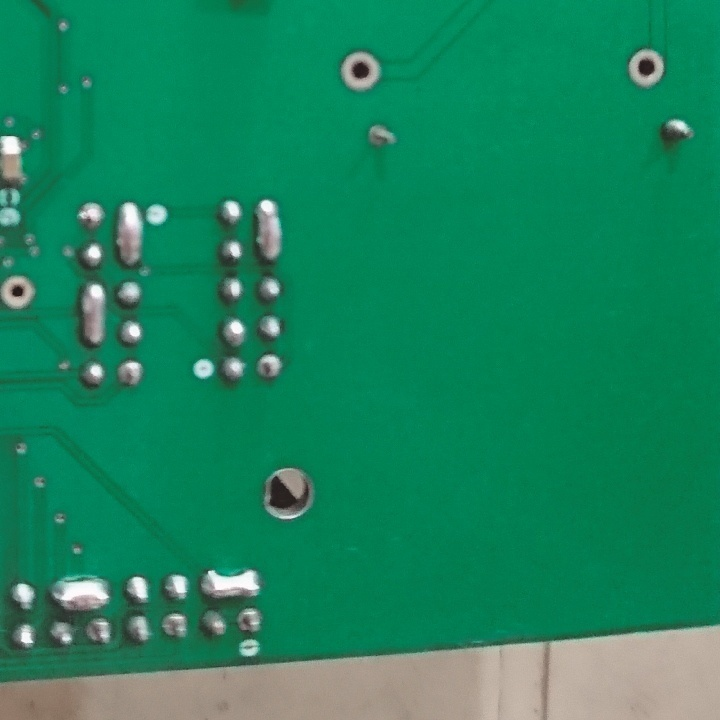F: (337, 46, 383, 96), (627, 46, 665, 90), (1, 275, 41, 315), (84, 615, 116, 646), (364, 122, 397, 152), (116, 358, 146, 389), (76, 198, 103, 230), (256, 352, 286, 380), (234, 608, 263, 635), (159, 612, 184, 640)
P: (250, 194, 286, 262), (199, 568, 267, 604), (47, 575, 111, 610), (115, 199, 144, 266), (80, 278, 108, 346)
